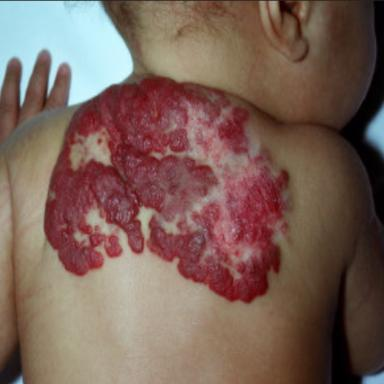Hemangiome: (44, 78, 289, 301)
